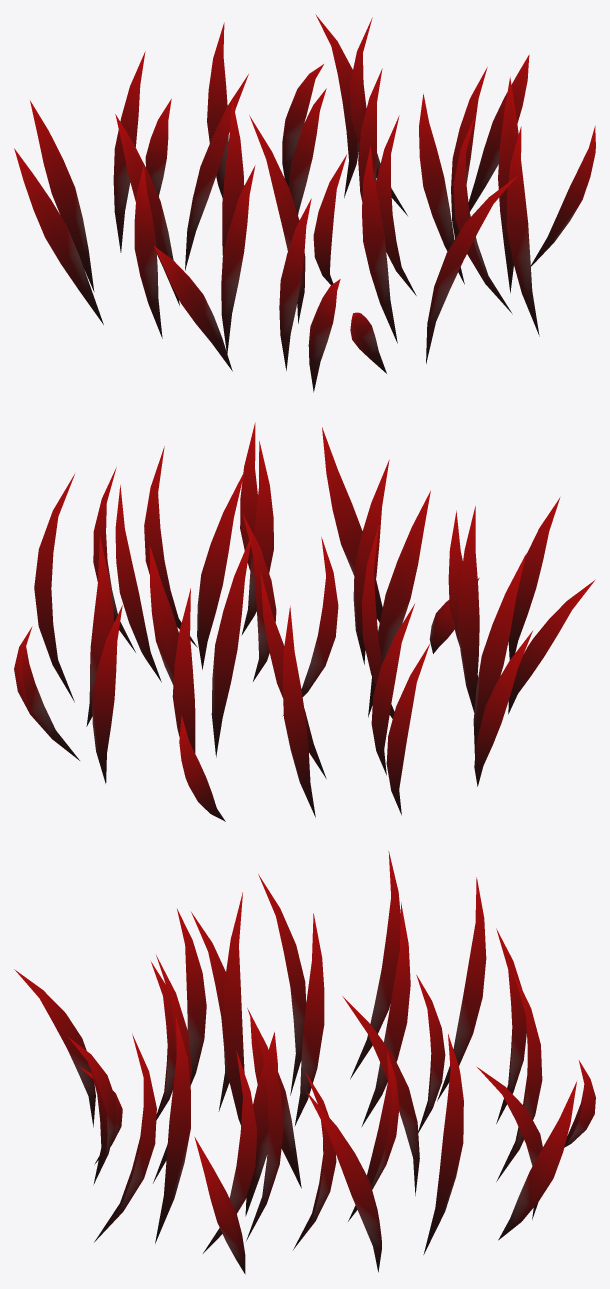
File: grasssss.fbx
3 renders of one model, top to bottom at view 1: azimuth 30°, elevation 25°; view 2: azimuth 150°, elevation 25°; view 3: azimuth 270°, elevation 25°, orthographic. The views are drawn at different scales.
Visible parts, largest first — view 1: Grass; view 2: Grass; view 3: Grass.
Boxes of the visible parts, x1=… form: Grass: x1=14, y1=14, x2=595, y2=392; Grass: x1=14, y1=422, x2=595, y2=821; Grass: x1=14, y1=851, x2=595, y2=1274.
Size of the model in its own units: 3.22 by 1.41 by 3.06.
